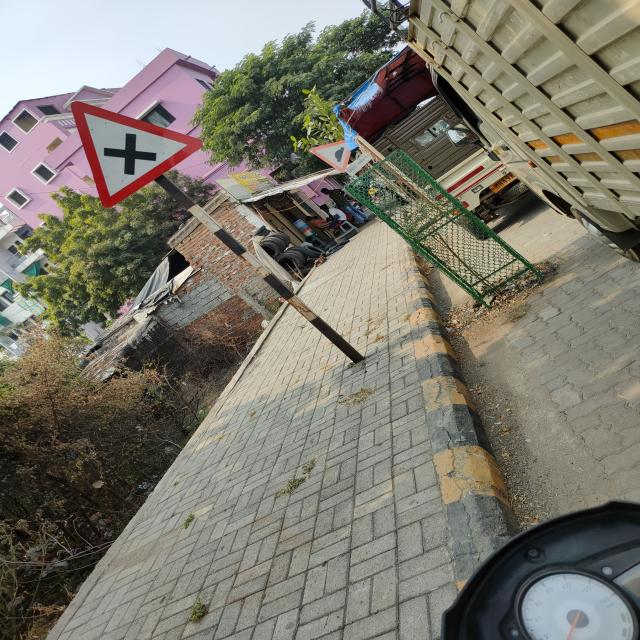cross_road: (71, 95, 207, 208)
